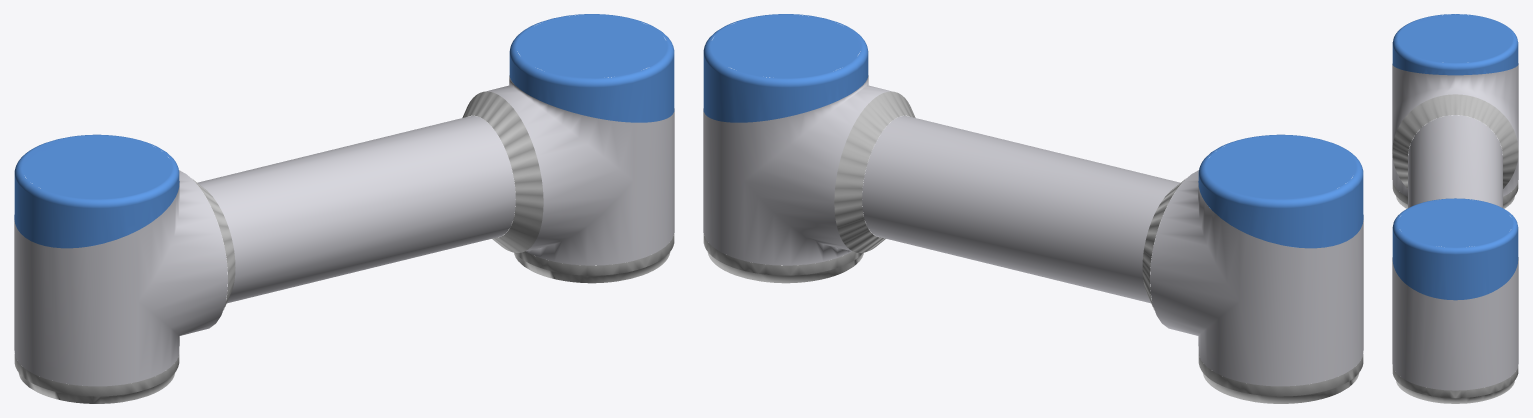
3 renders of one model, left to right at view 1: azimuth 30°, elevation 25°; view 2: azimuth 150°, elevation 25°; view 3: azimuth 270°, elevation 25°, orthographic. The views are drawn at different scales.
Parts seen in each view (by area): view 1: mesh; view 2: mesh; view 3: mesh.
Part boxes in pixels (x1,y1,x2,y2): mesh: [14, 14, 674, 403]; mesh: [703, 14, 1363, 403]; mesh: [1392, 14, 1518, 403].
Bounding box in the file's own units: 526 × 160 × 118.
